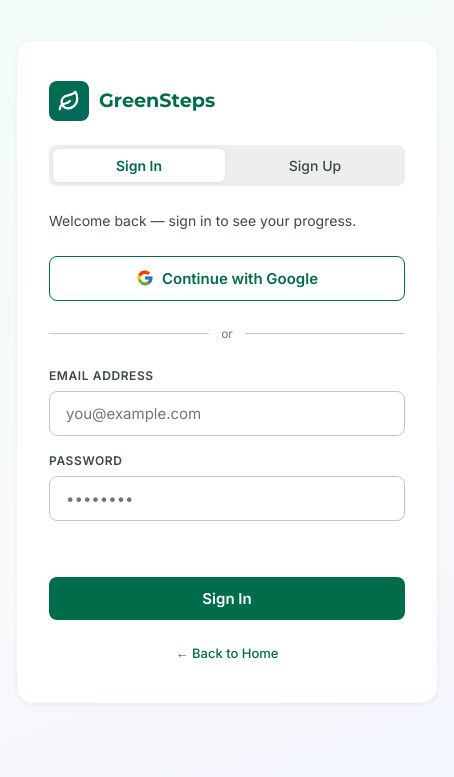
Test: Login page › shows error for short password on signup
Step 1. Click the tab "Sign Up" → [315, 165], box [229, 148, 401, 182]
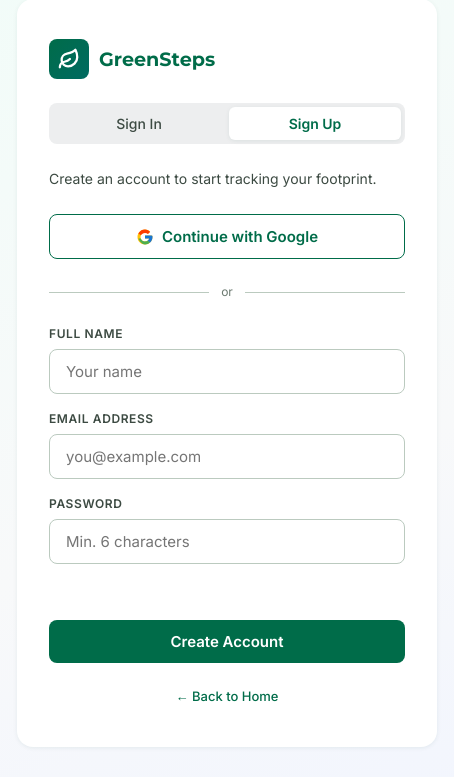
Step 2. Type "Yana" into the field labelled "Full Name" → [227, 372], box [49, 349, 405, 394]
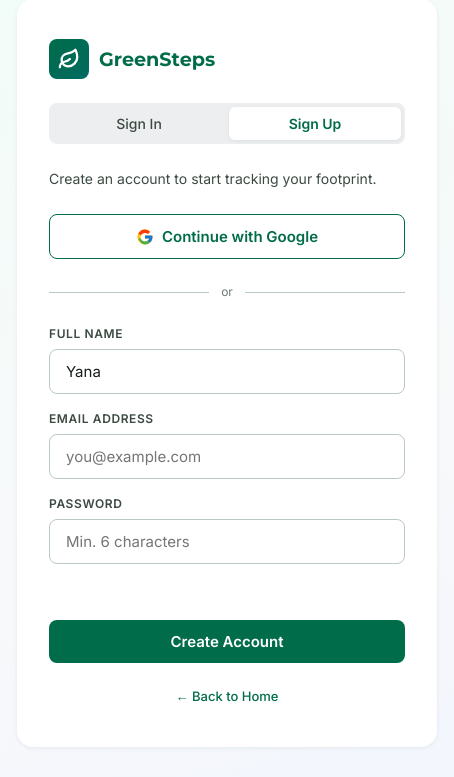
Step 3. Type "a@b.com" into the field labelled "Email Address" → [227, 457], box [49, 434, 405, 479]
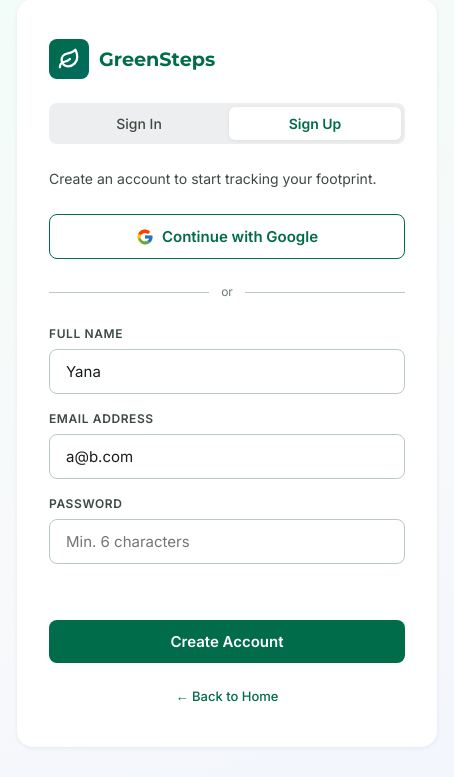
Step 4. Type "123" into the password field labelled "Password" → [227, 542], box [49, 519, 405, 564]
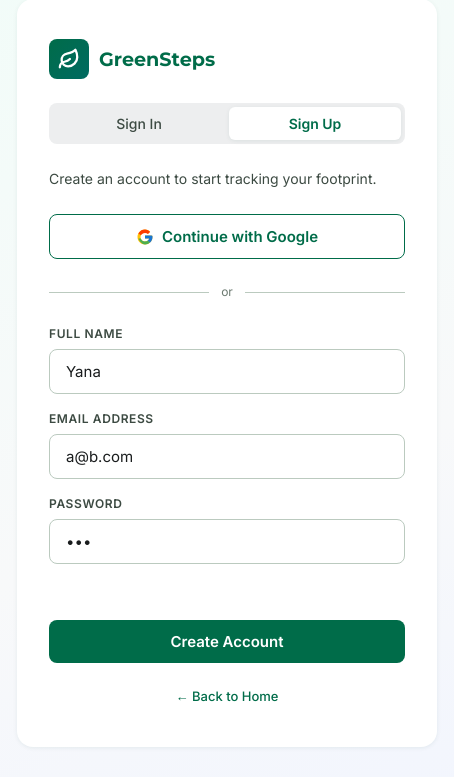
Step 5. Submit the form, box [49, 325, 405, 663]
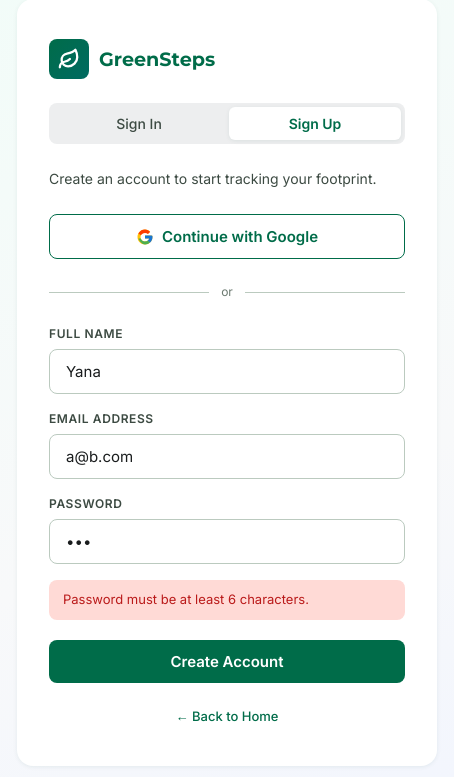
Expected: the message shows "at least 6 characters", [63, 591, 309, 607]
